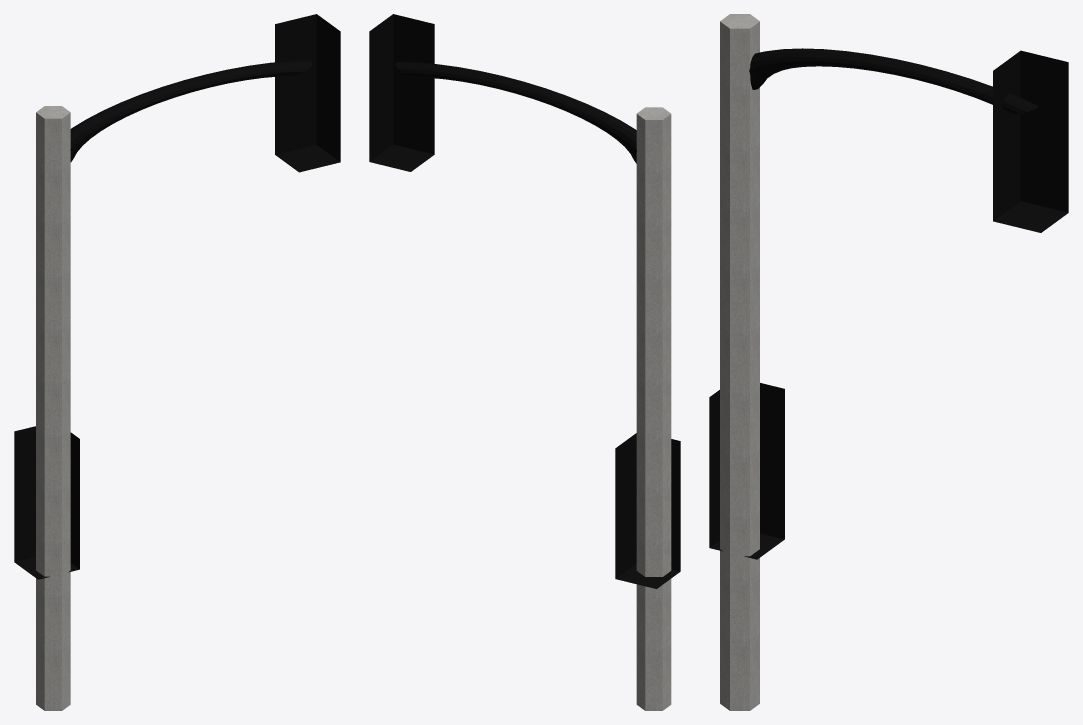
Rendered from feutricolore1.obj.
3 renders of one model, left to right at view 1: azimuth 30°, elevation 25°; view 2: azimuth 150°, elevation 25°; view 3: azimuth 330°, elevation 25°, orthographic. The views are drawn at different scales.
Visible parts, largest first — view 1: Pole_Cylinder.005; view 2: Pole_Cylinder.005; view 3: Pole_Cylinder.005.
Boxes of the visible parts, x1=… form: Pole_Cylinder.005: x1=14, y1=14, x2=340, y2=710; Pole_Cylinder.005: x1=369, y1=14, x2=680, y2=710; Pole_Cylinder.005: x1=709, y1=14, x2=1068, y2=710.
Bounding box in the file's own units: 2.7 × 5.38 × 0.4954.
